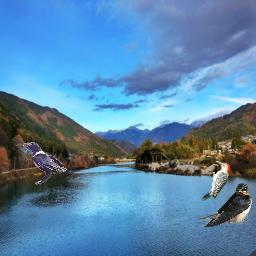Crow: (23, 142, 69, 185)
Swallow: (197, 183, 252, 227)
Woodpecker: (200, 159, 230, 202)
